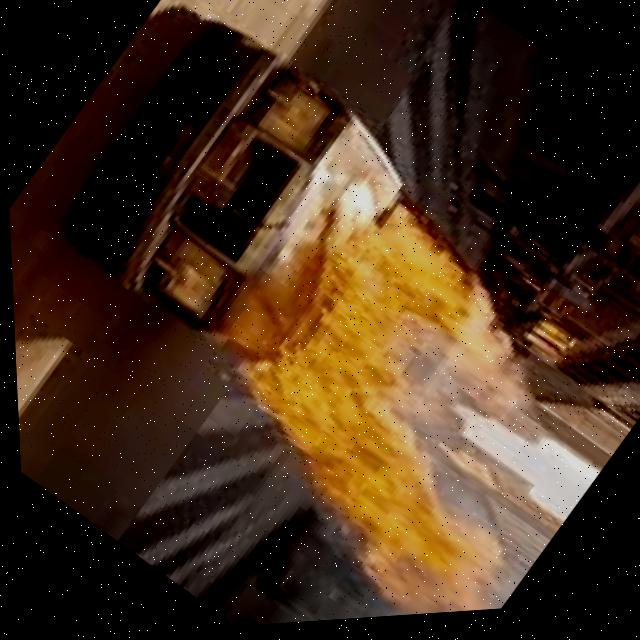Fire: (150, 165, 635, 633)
Smoke: (292, 566, 472, 626)
